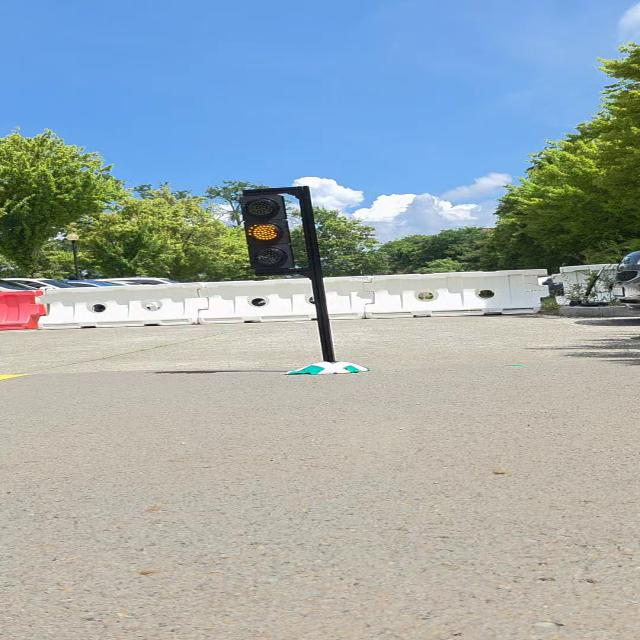yellow: (238, 195, 295, 270)
